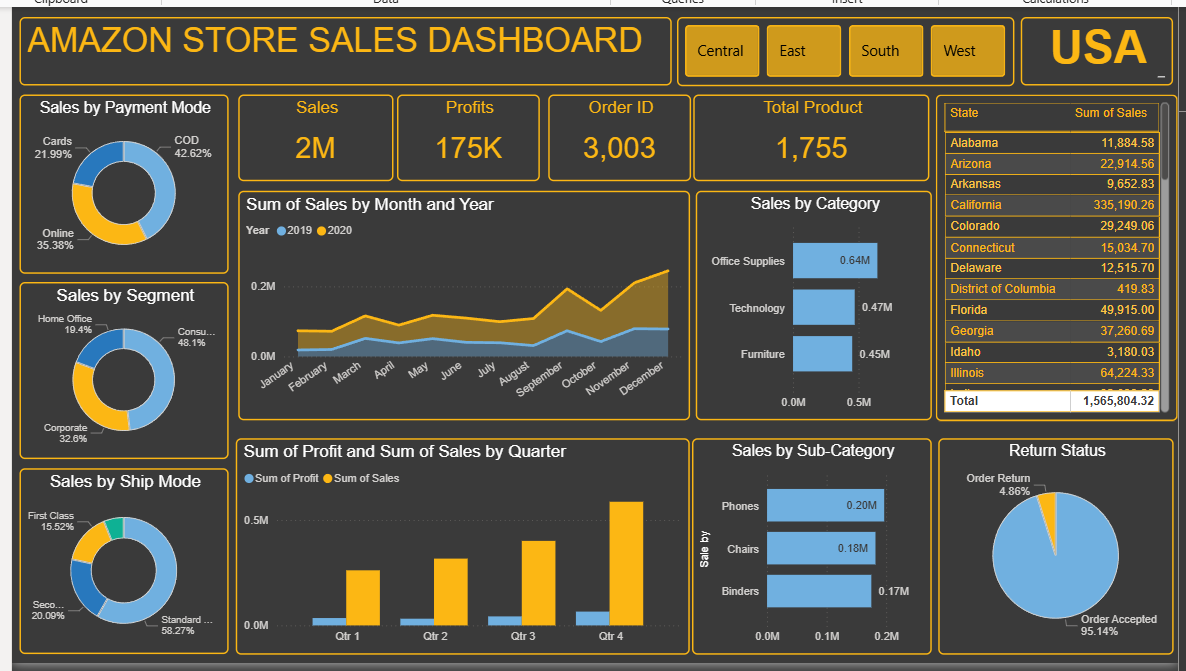

What the dashboard file says about the page in this screenshot:
{"tool":"powerbi","page":{"name":"Page 1","canvas":[1280,720],"ordinal":0},"visuals":[{"type":"card","title":"Sales","fields":{"Values":["Sum(Amazon Store Sales Data xlsx -.Sales)","select"]},"box":[248.5,96.3,170.1,95.3],"z":0},{"type":"clusteredBarChart","title":" Sales by Category","fields":{"Category":["Amazon Store Sales Data xlsx -.Category"],"Y":["Sum(Amazon Store Sales Data xlsx -.Sales)"]},"box":[750.4,201.7,259.4,252.1],"z":1000},{"type":"card","title":"Total Product","fields":{"Values":["Count(Amazon Store Sales Data xlsx -.Product ID)"]},"box":[748,96.3,259.4,95.3],"z":2000},{"type":"card","title":"Order ID","fields":{"Values":["Count(Amazon Store Sales Data xlsx -.Order ID)"]},"box":[588.7,96.3,156.8,95.3],"z":3000},{"type":"card","title":"Profits","fields":{"Values":["Sum(Amazon Store Sales Data xlsx -.Profit)"]},"box":[422.3,96.3,156.8,95.3],"z":4000},{"type":"clusteredColumnChart","fields":{"Category":["Amazon Store Sales Data xlsx -.Order Date.Variation.Date Hierarchy.Quarter"],"Y":["Sum(Amazon Store Sales Data xlsx -.Profit)","Sum(Amazon Store Sales Data xlsx -.Sales)"]},"box":[245.9,472.9,498.3,237.7],"z":5000},{"type":"stackedAreaChart","fields":{"Category":["Amazon Store Sales Data xlsx -.Order Date.Variation.Date Hierarchy.Month"],"Y":["Sum(Amazon Store Sales Data xlsx -.Sales)"],"Series":["Amazon Store Sales Data xlsx -.Order Date.Variation.Date Hierarchy.Year"]},"box":[248.5,201.7,495.8,252.1],"z":6000},{"type":"advancedSlicerVisual","fields":{"Values":["Amazon Store Sales Data xlsx -.Region"]},"box":[730,11.4,370,75.7],"z":7000},{"type":"clusteredBarChart","title":"Sales by Sub-Category","fields":{"Category":["Amazon Store Sales Data xlsx -.Sub-Category"],"Y":["Sum(Amazon Store Sales Data xlsx -.Sales)"]},"box":[746.6,472.9,263,237.7],"z":8000},{"type":"textbox","title":"AMAZON STORE SALES DASHBOARD","box":[8.2,11,716.3,75.5],"z":9000},{"type":"donutChart","title":" Sales by Payment Mode","fields":{"Category":["Amazon Store Sales Data xlsx -.Payment Mode"],"Y":["Sum(Amazon Store Sales Data xlsx -.Sales)"]},"box":[8.4,96.5,229.2,196.6],"z":10000},{"type":"donutChart","title":"Sales by Segment","fields":{"Category":["Amazon Store Sales Data xlsx -.Segment"],"Y":["Sum(Amazon Store Sales Data xlsx -.Sales)"]},"box":[8.4,301.6,229.2,194.2],"z":11000},{"type":"donutChart","title":" Sales by Ship Mode","fields":{"Category":["Amazon Store Sales Data xlsx -.Ship Mode"],"Y":["Sum(Amazon Store Sales Data xlsx -.Sales)"]},"box":[8.4,506.7,229.2,203.9],"z":12000},{"type":"pieChart","title":"Return Status ","fields":{"Category":["Amazon Store Sales Data xlsx -.Return Status"],"Y":["CountNonNull(Amazon Store Sales Data xlsx -.Return Status)"]},"box":[1017,472.9,258.2,237.7],"z":13000},{"type":"tableEx","fields":{"Values":["Amazon Store Sales Data xlsx -.State","Sum(Amazon Store Sales Data xlsx -.Sales)"]},"box":[1014.6,96.5,265.4,358.3],"z":14000},{"type":"textbox","title":"USA","box":[1107.4,11,167.4,75.5],"z":15000}]}

Visuals, with their boxes on the page's 1280x720 design canvas (x1, y1, x2, y2). These are canvas units, not pixel positions in the 1186x671 screenshot, which may show the page scaled, cropped or inside an application window:
"Sales" card: box(248, 96, 419, 192)
" Sales by Category" clusteredBarChart: box(750, 202, 1010, 454)
"Total Product" card: box(748, 96, 1007, 192)
"Order ID" card: box(589, 96, 746, 192)
"Profits" card: box(422, 96, 579, 192)
clusteredColumnChart - Amazon Store Sales Data xlsx -.Order Date.Variation.Date Hierarchy.Quarter x Sum(Amazon Store Sales Data xlsx -.Profit): box(246, 473, 744, 711)
stackedAreaChart - Amazon Store Sales Data xlsx -.Order Date.Variation.Date Hierarchy.Month x Sum(Amazon Store Sales Data xlsx -.Sales): box(248, 202, 744, 454)
advancedSlicerVisual - Amazon Store Sales Data xlsx -.Region: box(730, 11, 1100, 87)
"Sales by Sub-Category" clusteredBarChart: box(747, 473, 1010, 711)
"AMAZON STORE SALES DASHBOARD" textbox: box(8, 11, 724, 86)
" Sales by Payment Mode" donutChart: box(8, 96, 238, 293)
"Sales by Segment" donutChart: box(8, 302, 238, 496)
" Sales by Ship Mode" donutChart: box(8, 507, 238, 711)
"Return Status " pieChart: box(1017, 473, 1275, 711)
tableEx - Amazon Store Sales Data xlsx -.State x Sum(Amazon Store Sales Data xlsx -.Sales): box(1015, 96, 1280, 455)
"USA" textbox: box(1107, 11, 1275, 86)
